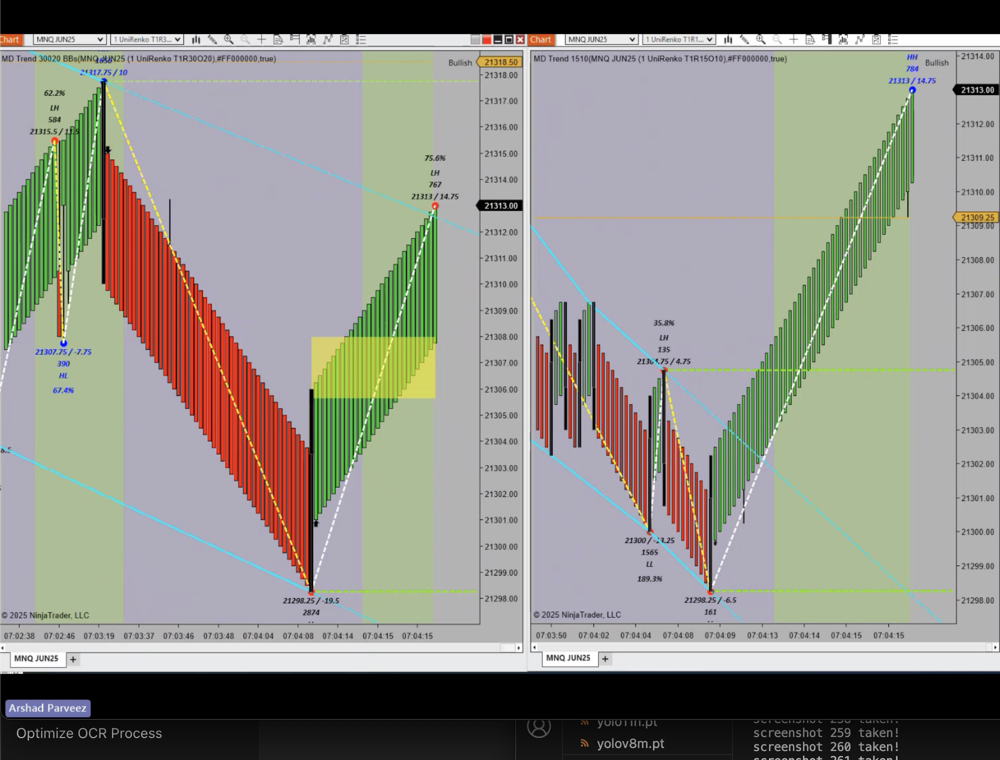HH: (900, 47, 924, 67)
HL: (54, 366, 74, 387)
LH: (424, 165, 450, 183), (44, 99, 68, 118), (654, 329, 679, 345)
LL: (639, 557, 662, 575)
